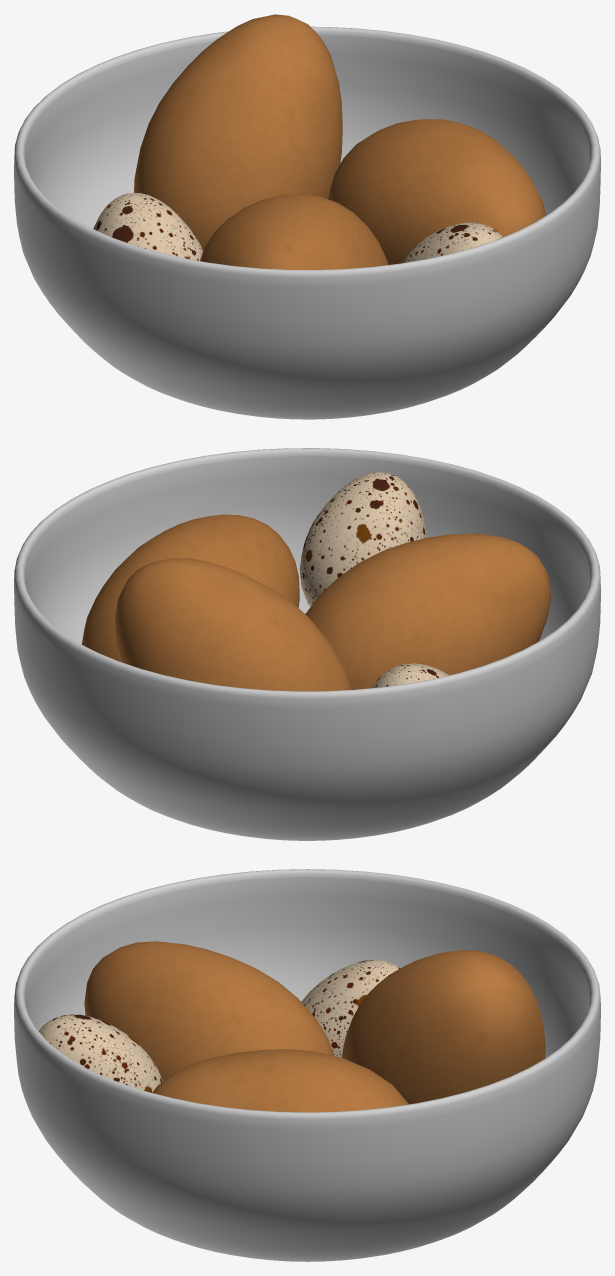
Rendered from plate with eggs.fbx.
The picture shows the model from 3 angles, top to bottom: view 1: azimuth 30°, elevation 25°; view 2: azimuth 150°, elevation 25°; view 3: azimuth 270°, elevation 25°; orthographic projection.
Visible parts, largest first — view 1: plate with eggs; view 2: plate with eggs; view 3: plate with eggs.
Part boxes in pixels (x1,y1,x2,y2): plate with eggs: [14, 14, 600, 419]; plate with eggs: [14, 448, 600, 840]; plate with eggs: [14, 869, 600, 1261].
Bounding box in the file's own units: 11.12 × 5.29 × 11.12.
